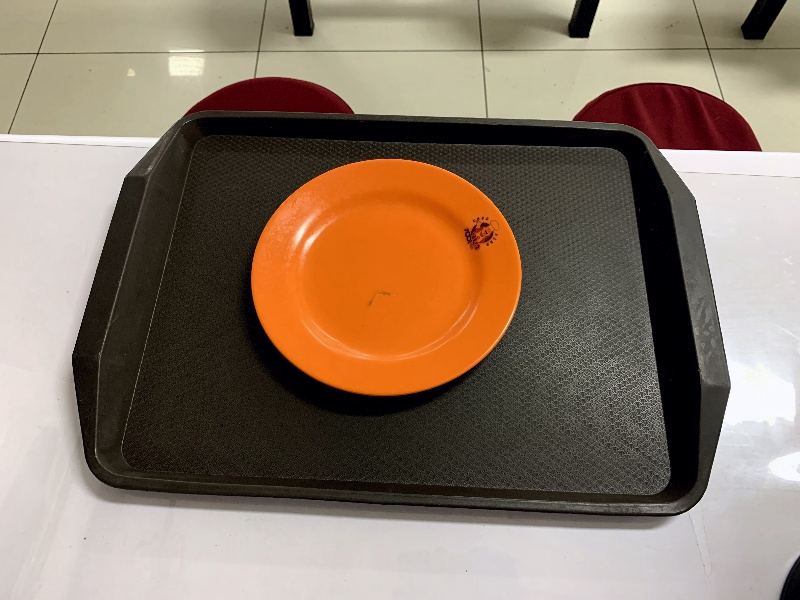dish10: (243, 155, 527, 403)
